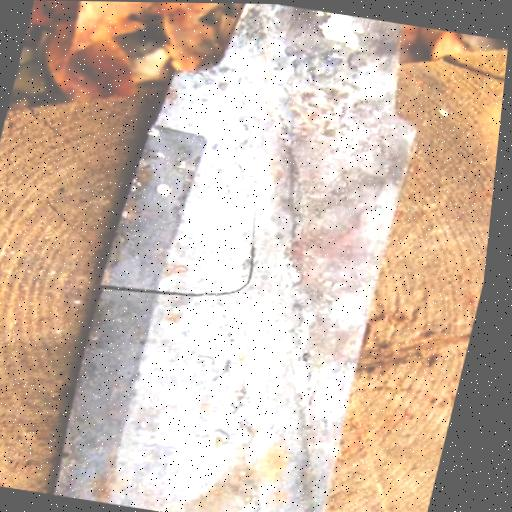crack: (96, 265, 260, 317), (223, 193, 279, 300)
